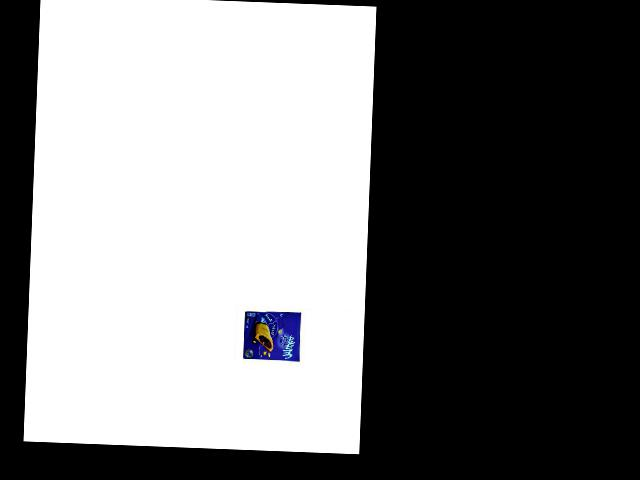chocolate: (239, 308, 304, 364)
